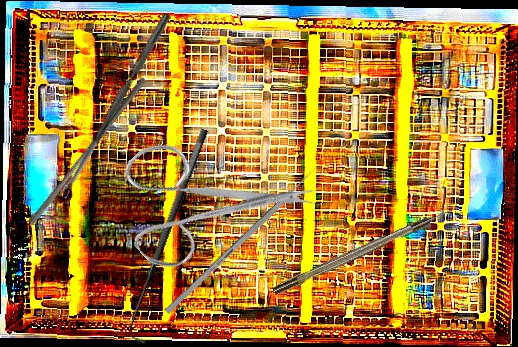Hook Surgical: (119, 127, 225, 345), (271, 202, 462, 296)
Iris Scissors: (89, 81, 322, 313)
Pusher: (164, 162, 322, 315), (27, 72, 147, 230)
Surgical Spoon: (57, 11, 172, 200)
